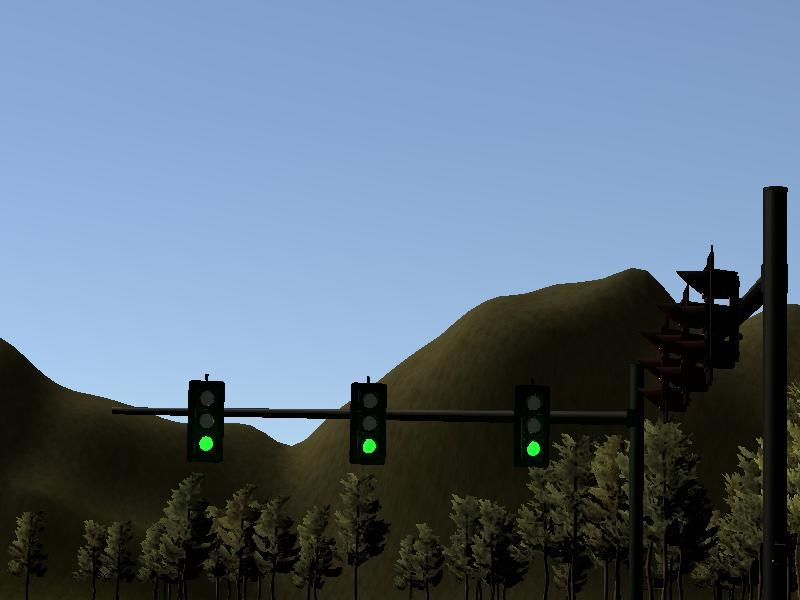Green: (187, 380, 224, 464), (515, 382, 552, 466), (351, 382, 388, 466)
